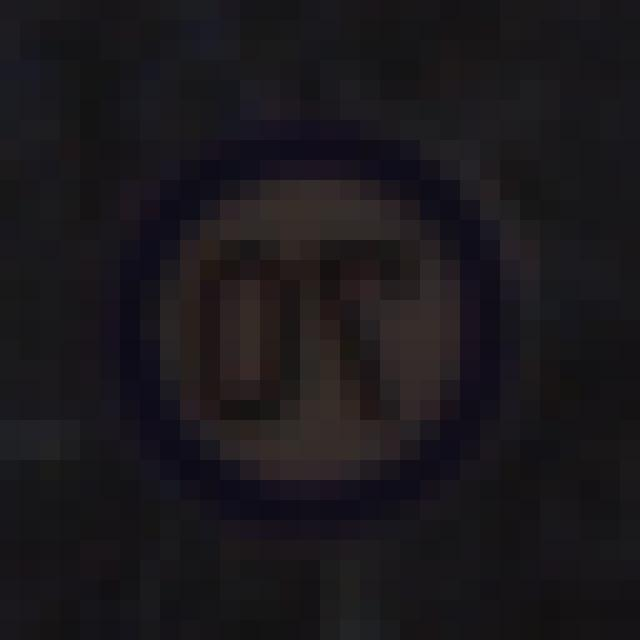SPEED LIMIT 70: (114, 121, 502, 531)
